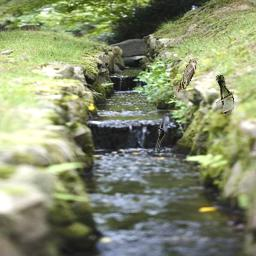Cuckoo: (173, 59, 197, 99), (216, 75, 234, 115), (155, 113, 169, 153)
